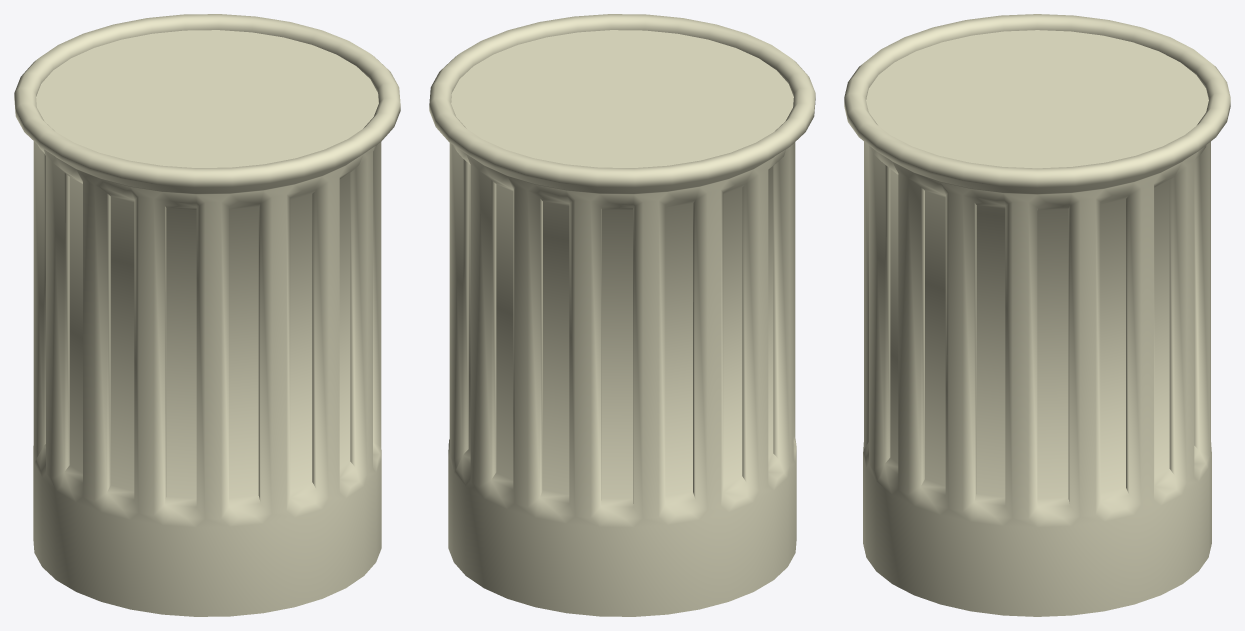
File: Podium.fbx
The picture shows the model from 3 angles, left to right: view 1: azimuth 30°, elevation 25°; view 2: azimuth 150°, elevation 25°; view 3: azimuth 270°, elevation 25°; orthographic projection.
Parts seen in each view (by area): view 1: podium; view 2: podium; view 3: podium.
Boxes of the visible parts, <box> form: podium: <box>14,14,400,616</box>; podium: <box>429,14,815,616</box>; podium: <box>844,14,1230,616</box>.
Size of the model in its own units: 222 by 284 by 222.
